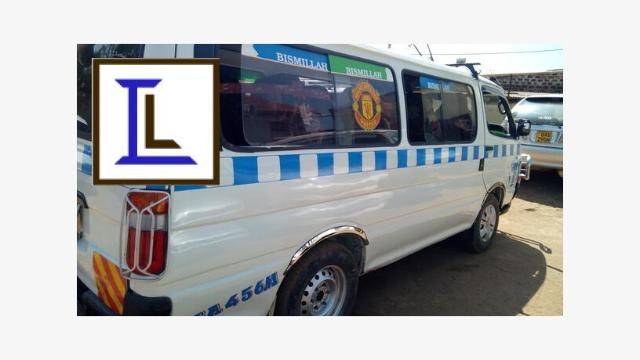van: (78, 46, 532, 314)
